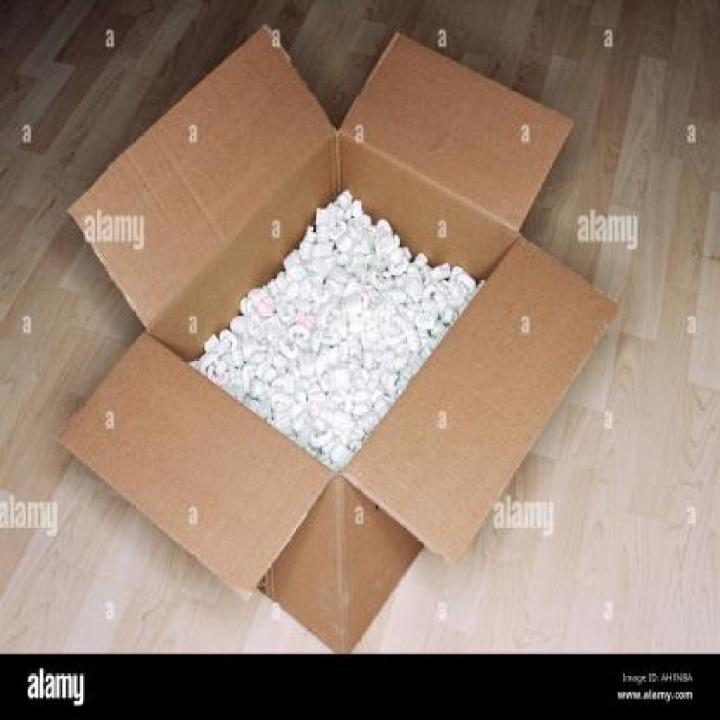package: (67, 14, 621, 649)
